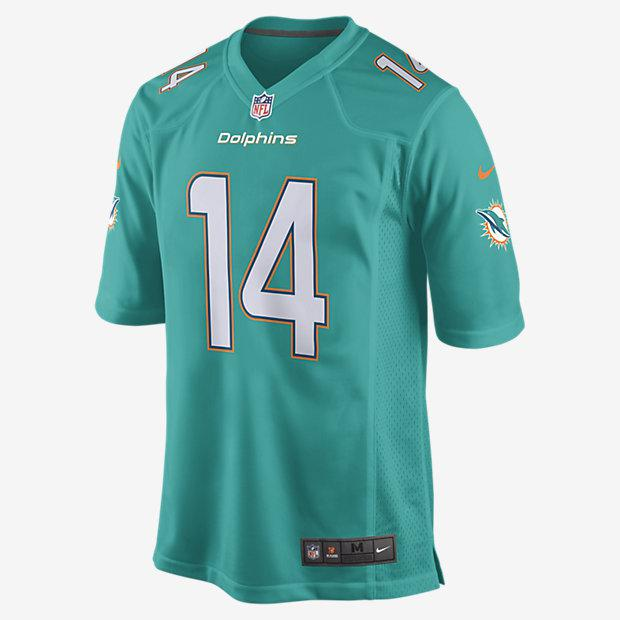teeshirt: (89, 10, 535, 608)
